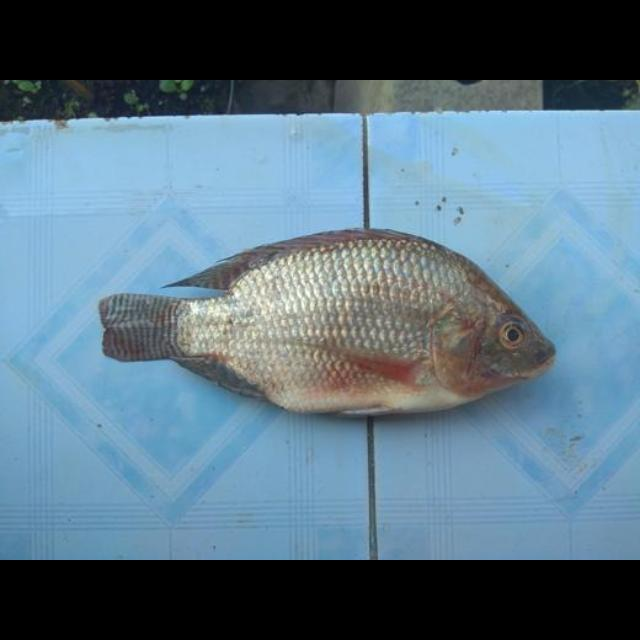Tilapia: (97, 226, 559, 419)
